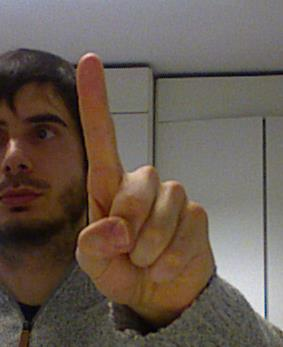up: (72, 51, 212, 322)
